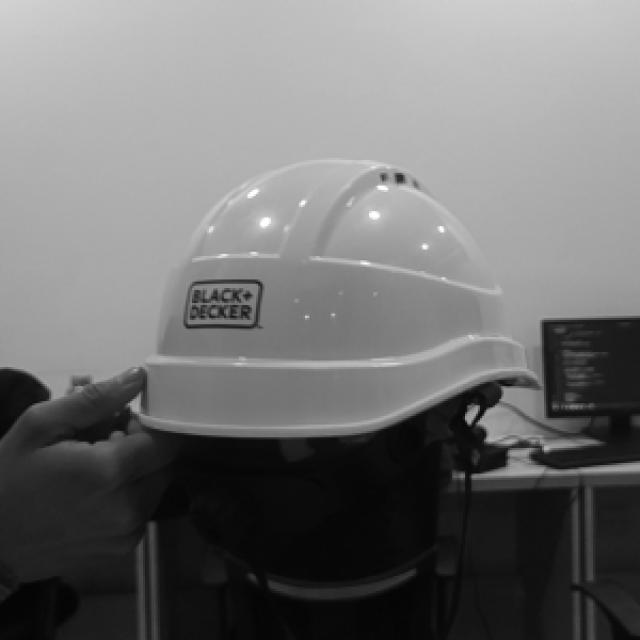safety_helmet: (141, 160, 542, 437)
